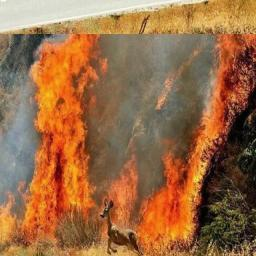Large fire: (11, 28, 256, 248)
